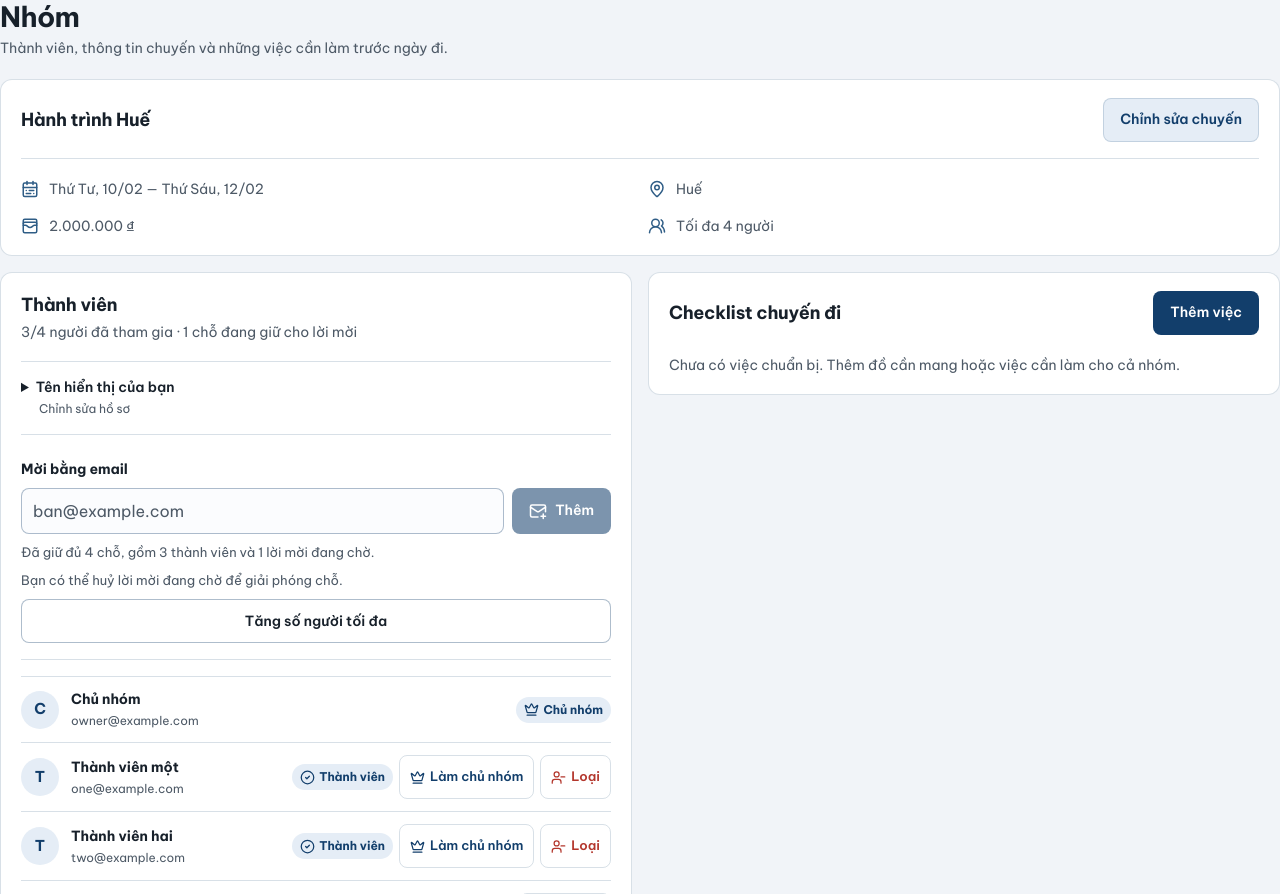
GroupPage invitations › keeps settings compact, discards a cancelled draft and saves through the owner editor
Expected: the field labelled "Tên chuyến đi" is not shown
Click the button "Chỉnh sửa chuyến" at (1181, 120), box [1103, 98, 1259, 142]
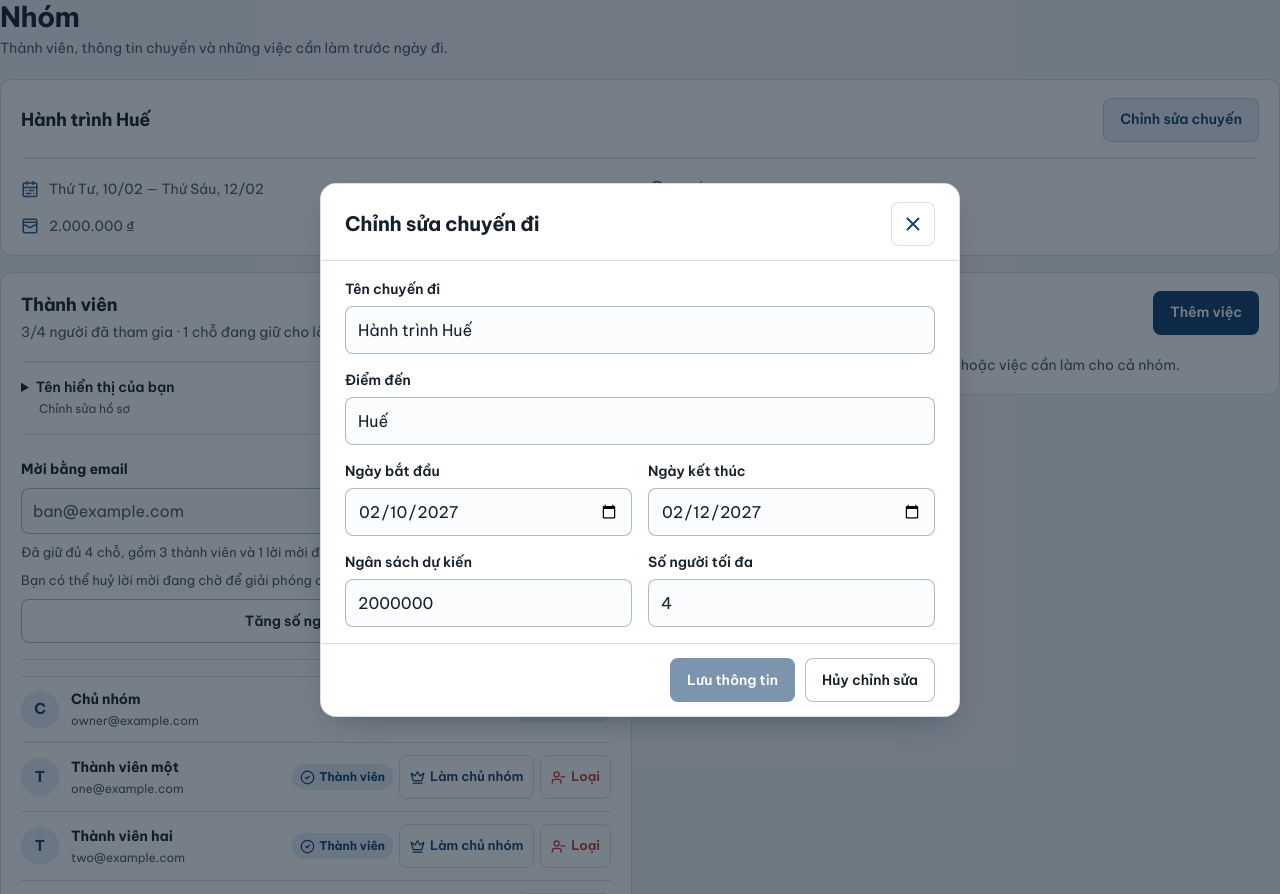
Replace the text in the field labelled "Tên chuyến đi" with "Bản nháp chưa lưu" at (640, 330), box [345, 306, 935, 354]
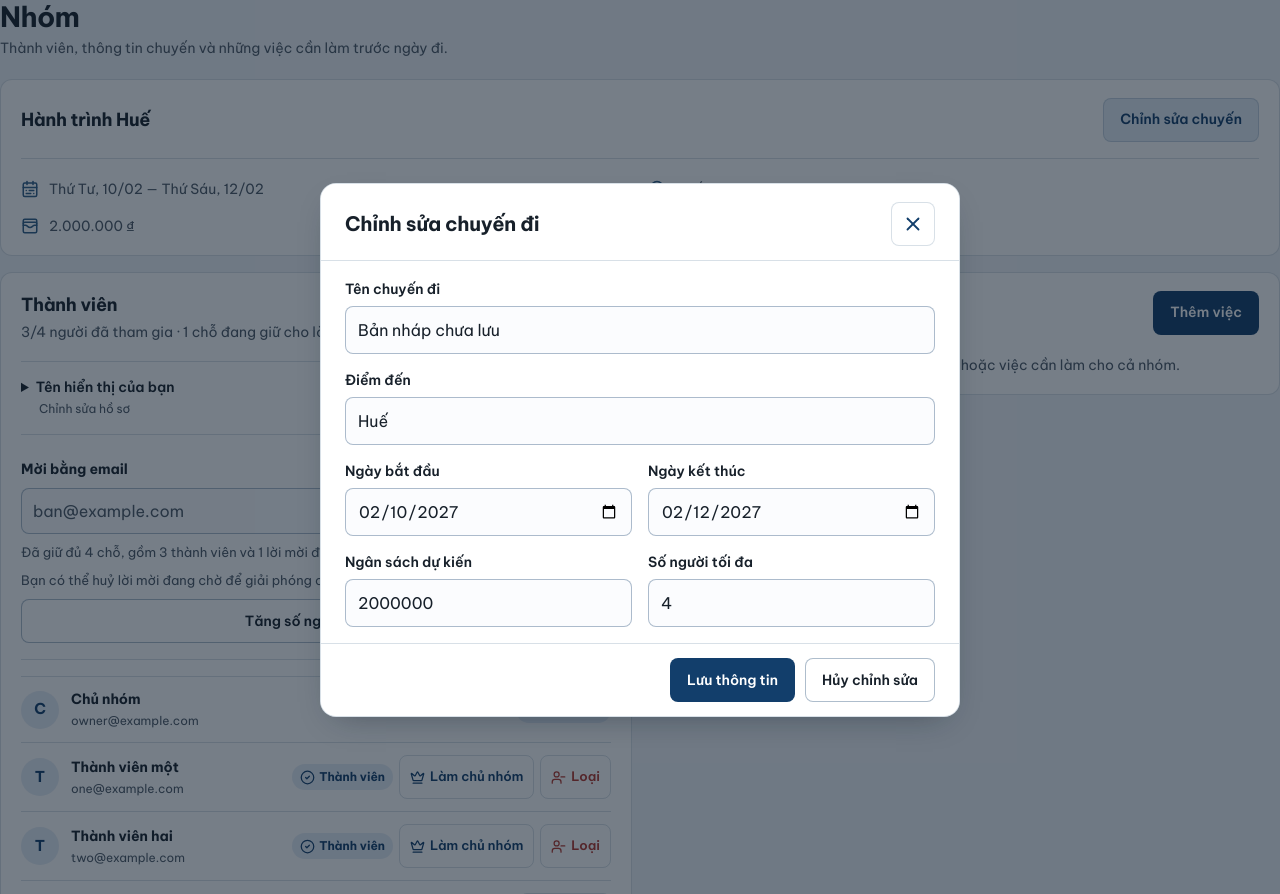
Click the button "Hủy chỉnh sửa" at (870, 680), box [805, 658, 935, 702]
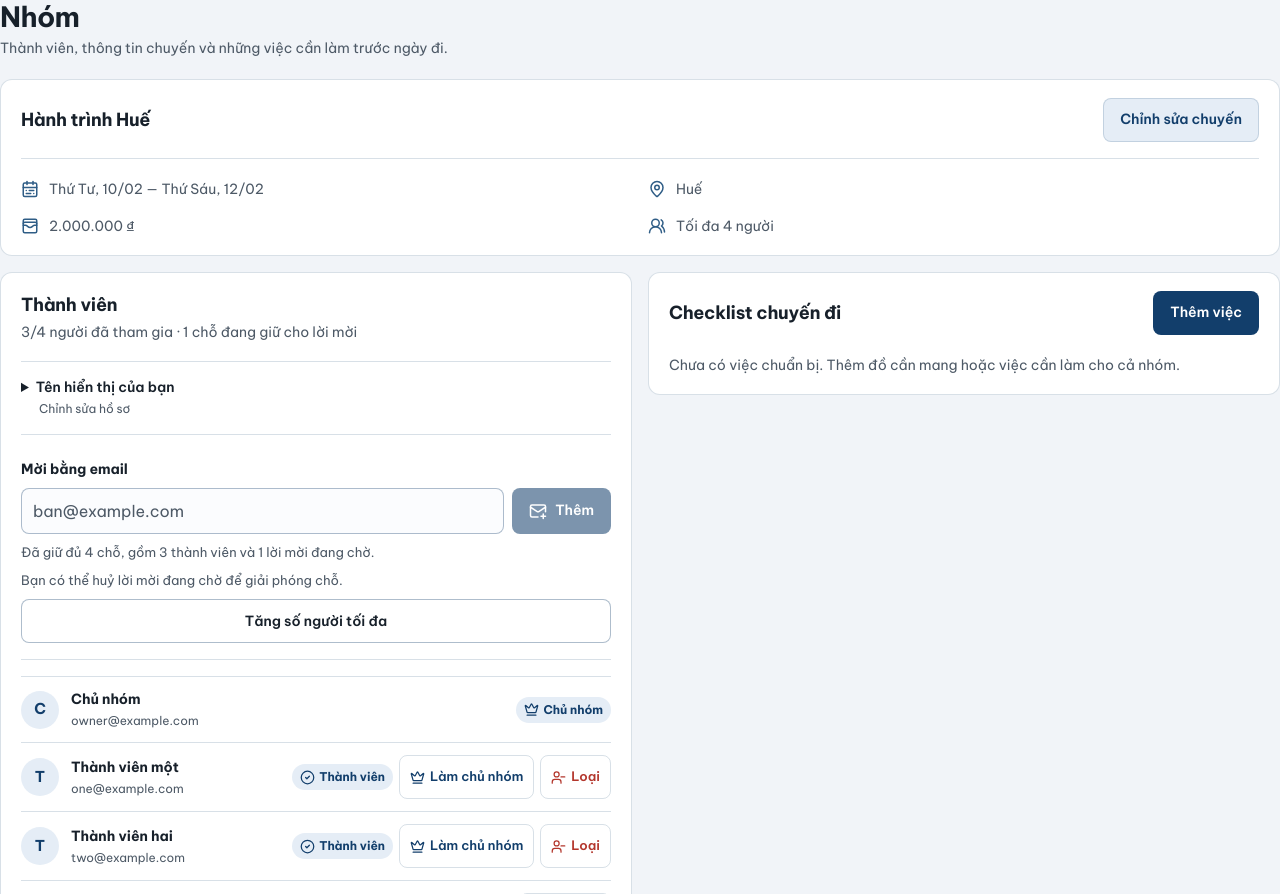
Click the button "Chỉnh sửa chuyến" at (1181, 120), box [1103, 98, 1259, 142]
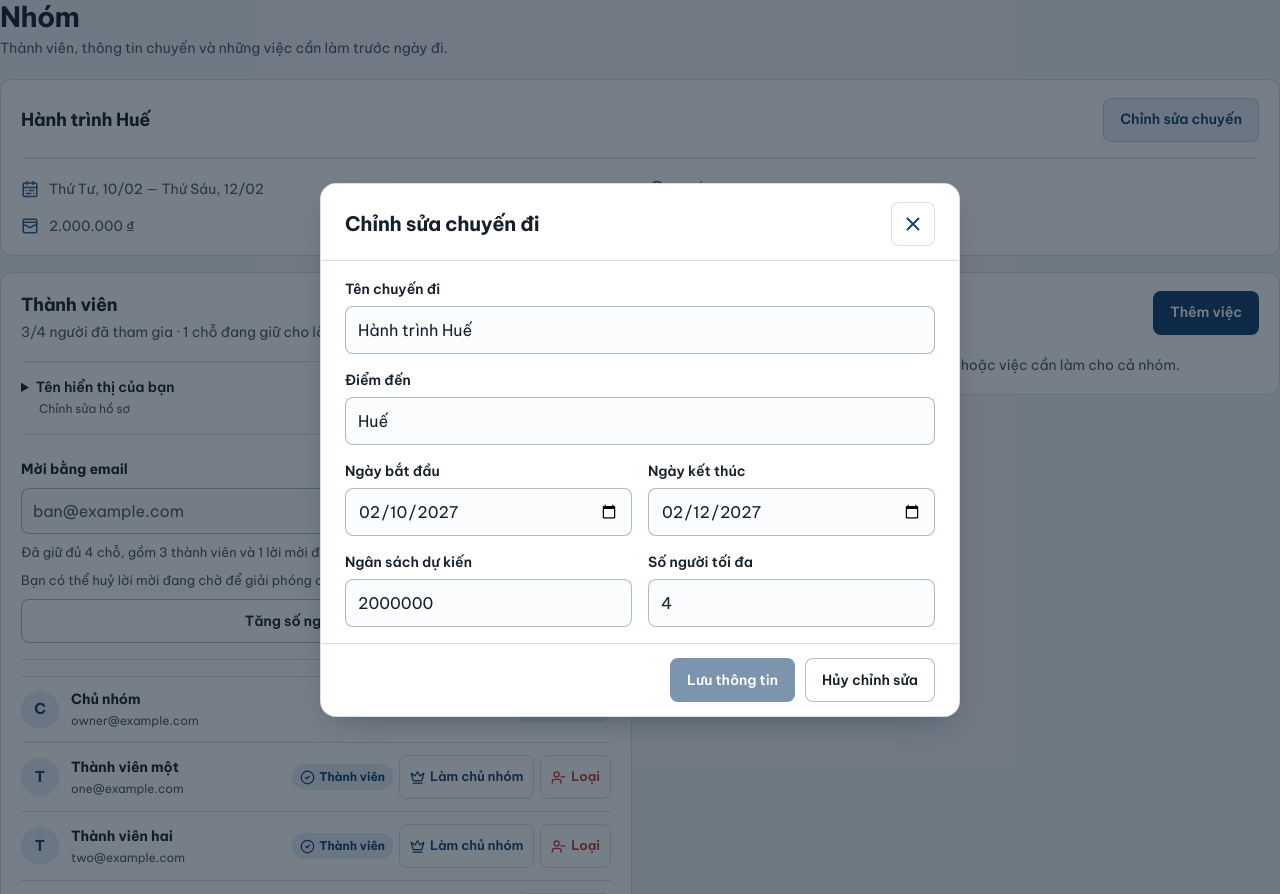
Expected: the field labelled "Tên chuyến đi" holds "Hành trình Huế"
Replace the text in the field labelled "Tên chuyến đi" with "Hành trình Huế cùng bạn" at (640, 330), box [345, 306, 935, 354]
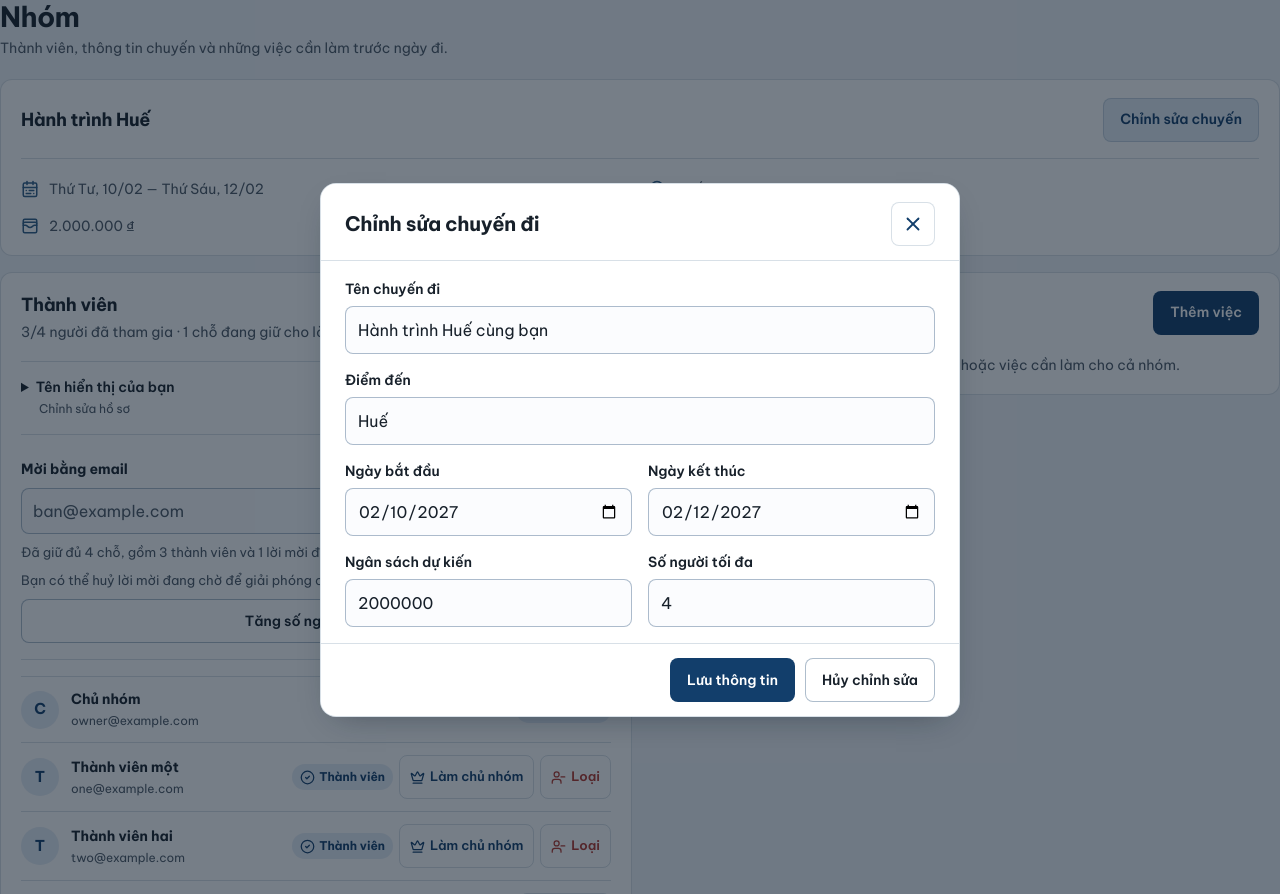
Click the button "Lưu thông tin" at (732, 680), box [670, 658, 795, 702]
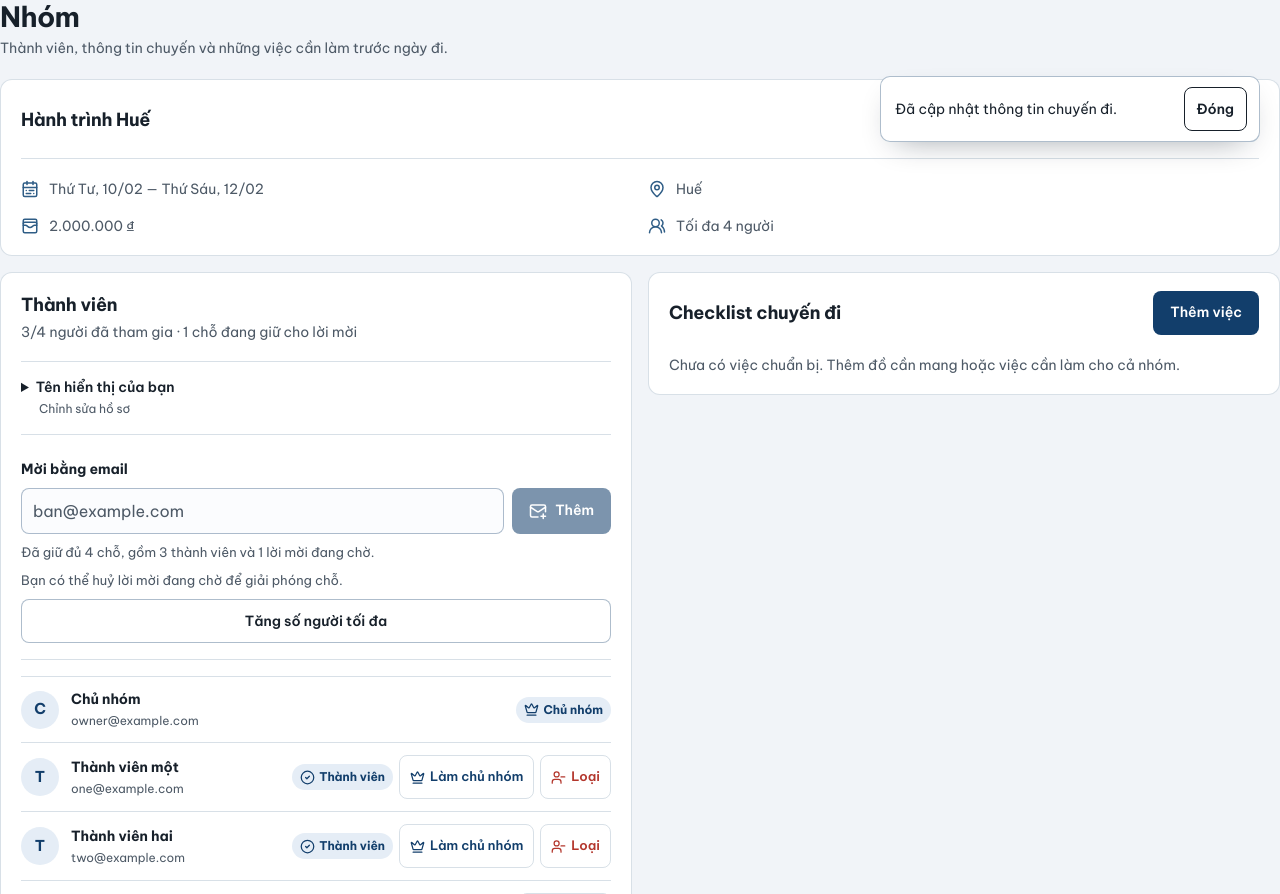
Expected: the dialog is gone
Expected: the message shows "Đã cập nhật", [895, 100, 1117, 118]
